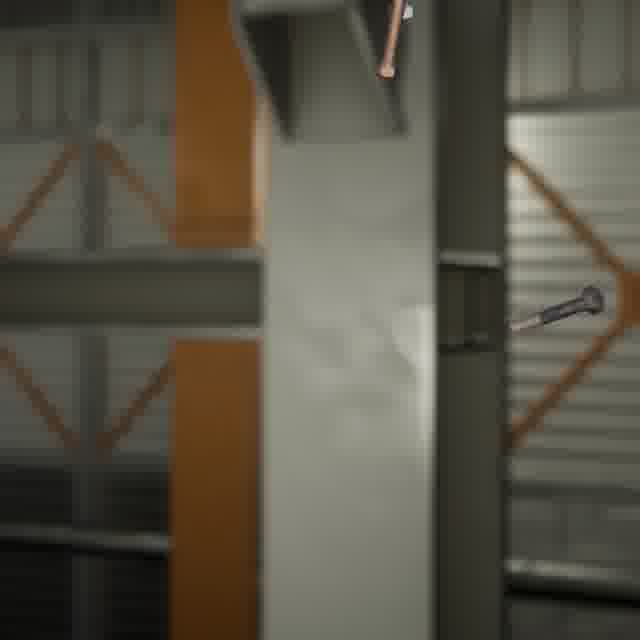bolt: (506, 281, 608, 338), (369, 0, 410, 82), (383, 0, 419, 23)
